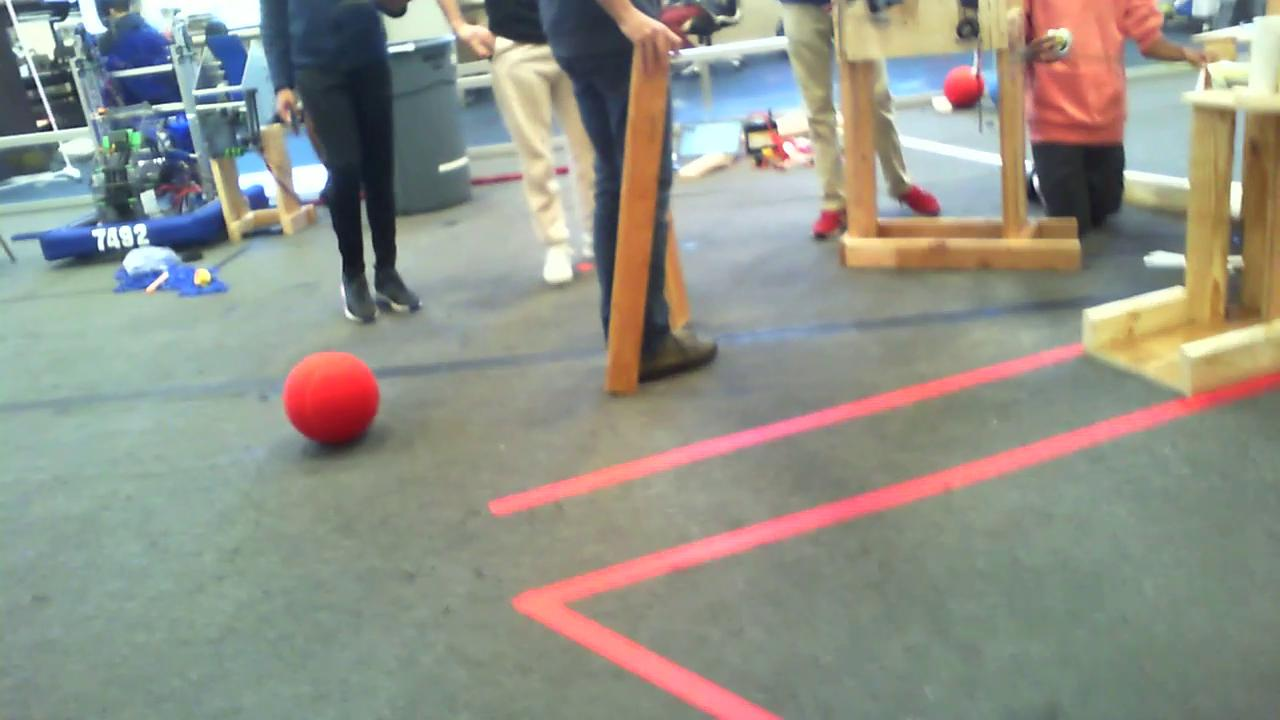robot: (37, 42, 267, 260)
